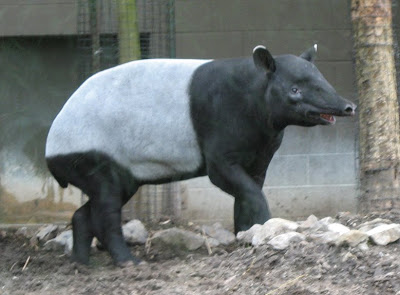Anta: (41, 38, 359, 272)
